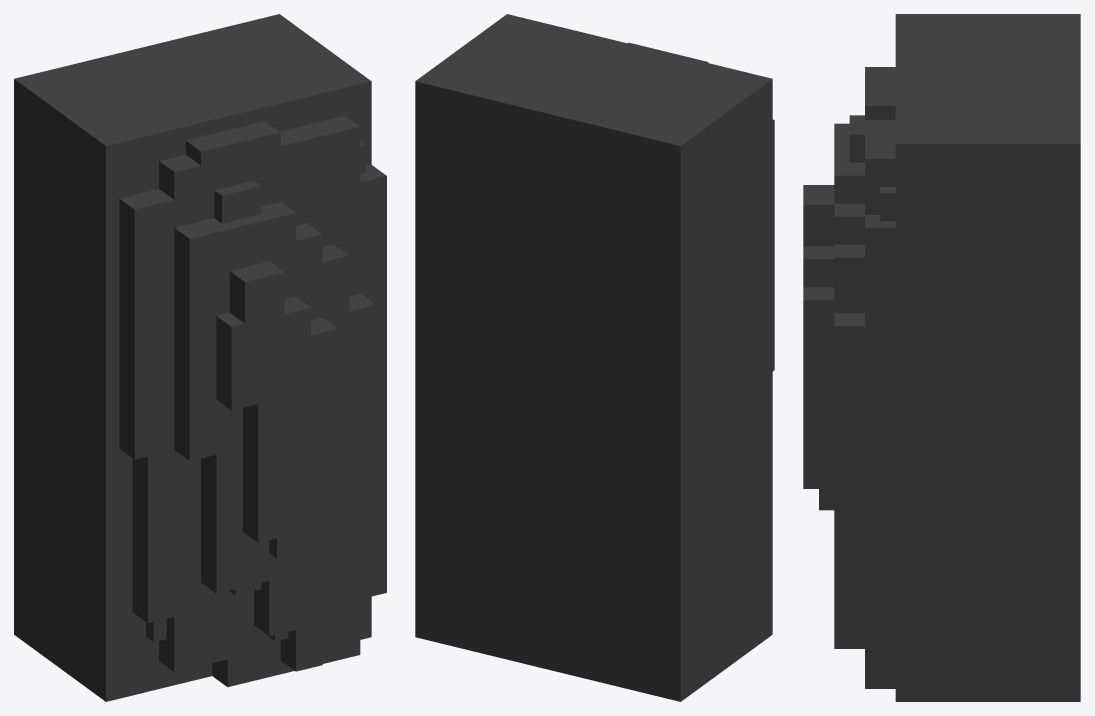
Rendered from land-hill 1x2.obj.
The picture shows the model from 3 angles, left to right: view 1: azimuth 30°, elevation 25°; view 2: azimuth 150°, elevation 25°; view 3: azimuth 270°, elevation 25°; orthographic projection.
Size of the model in its own units: 20 by 40 by 18.
Materials: 1 (1 with a texture image).
